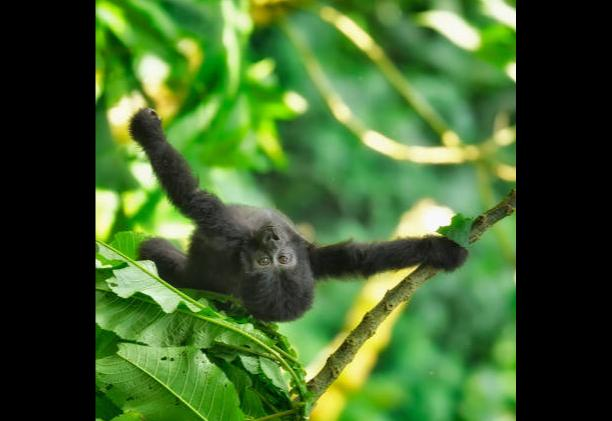goriile_montagne: (113, 130, 409, 354)
